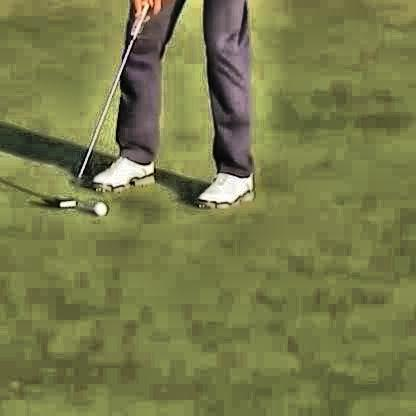golfball: (92, 198, 105, 211)
